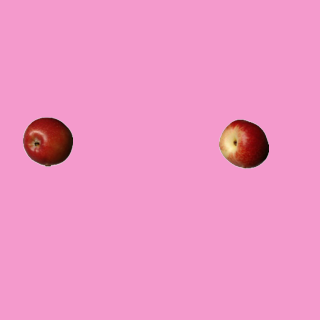Apple Braeburn: (22, 116, 72, 166)
Nectarine: (218, 118, 268, 168)
